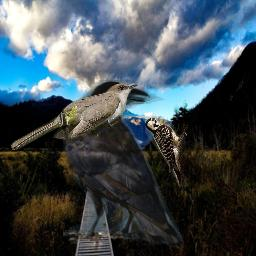Crow: (63, 80, 184, 251)
Cuckoo: (10, 82, 137, 150)
Woodpecker: (145, 116, 188, 188)
